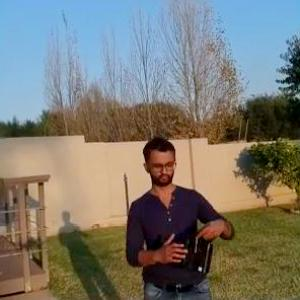follow: (122, 132, 240, 299)
